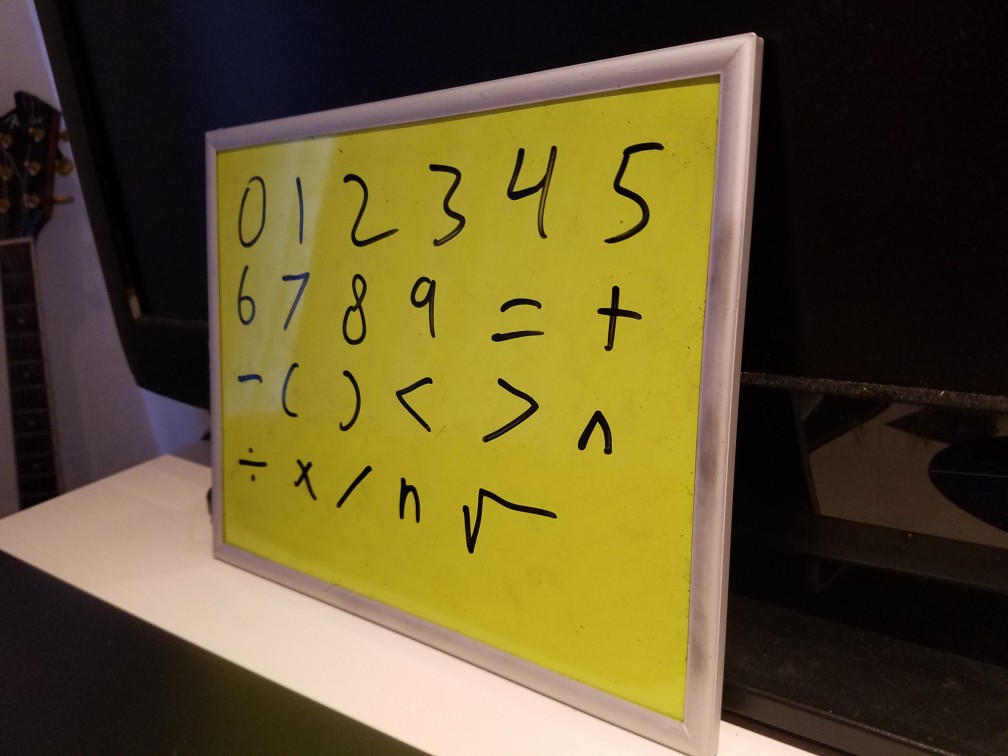(: (276, 354, 304, 432)
): (334, 368, 364, 440)
+: (588, 277, 647, 359)
-: (233, 360, 266, 392)
/: (333, 459, 377, 517)
0: (229, 166, 276, 252)
1: (289, 166, 318, 253)
2: (344, 165, 403, 252)
3: (415, 148, 477, 262)
4: (498, 134, 562, 247)
5: (591, 129, 671, 260)
6: (232, 263, 256, 328)
7: (279, 260, 313, 333)
8: (332, 262, 385, 360)
9: (403, 265, 450, 346)
<: (389, 366, 430, 435)
=: (477, 281, 562, 360)
>: (474, 369, 545, 454)
^: (569, 400, 618, 466)
div: (234, 436, 273, 494)
n: (388, 465, 426, 536)
sqrt: (444, 471, 564, 565)
x: (287, 450, 318, 504)
